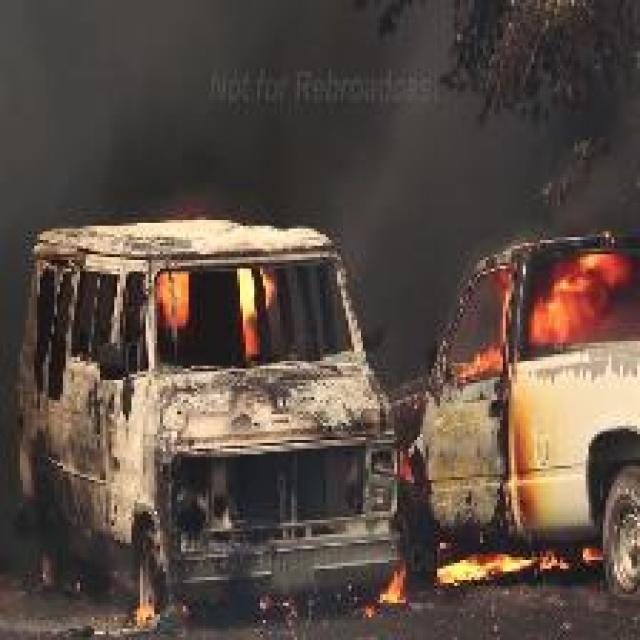Fire: (458, 231, 633, 380), (236, 270, 273, 362), (157, 266, 194, 332), (378, 564, 413, 607)
